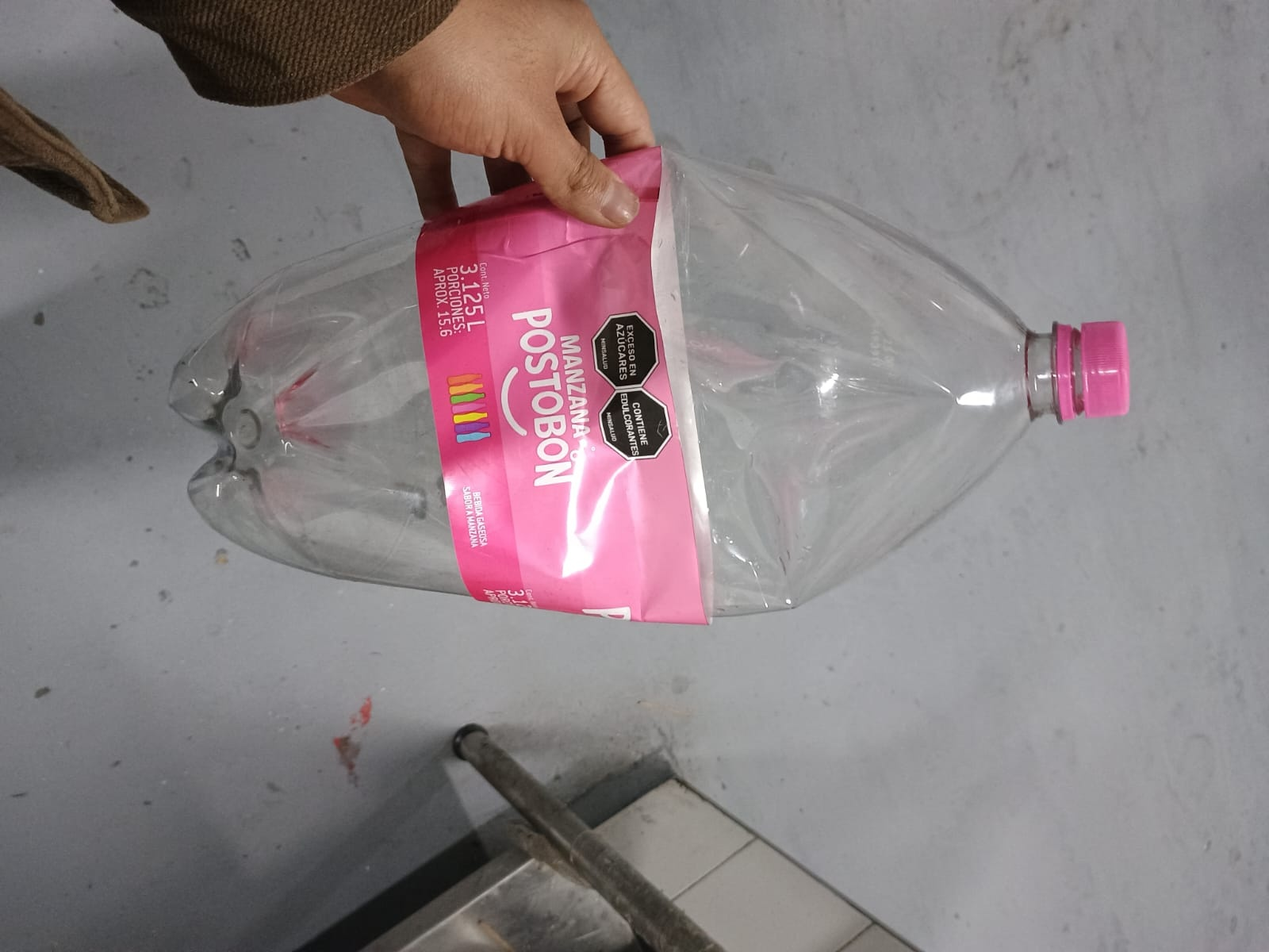Plastico: (165, 150, 1131, 621)
